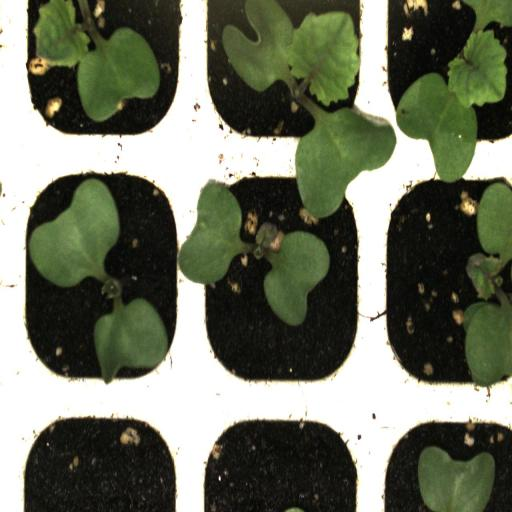Folha: (464, 181, 512, 387), (176, 181, 250, 286), (263, 230, 330, 326), (418, 446, 495, 512)
Germinacao: (188, 156, 364, 399), (16, 154, 187, 398), (372, 159, 512, 405), (192, 0, 368, 163), (14, 0, 188, 158), (370, 0, 512, 163)
